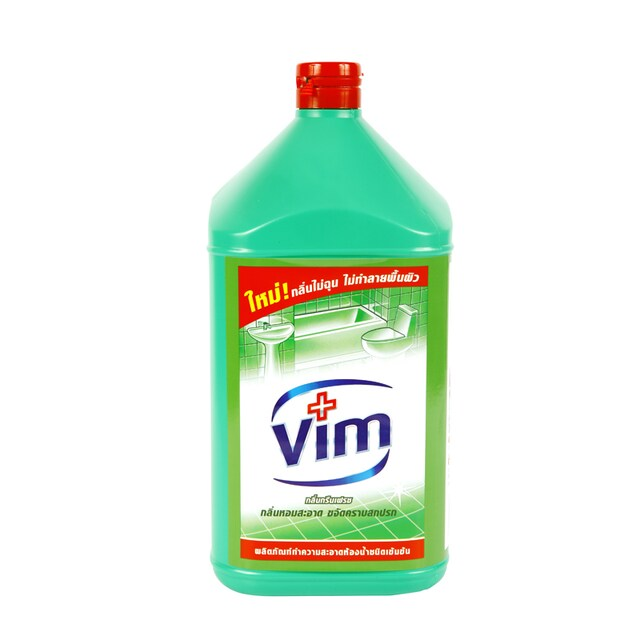Cleaning_solution: (196, 51, 451, 603)
